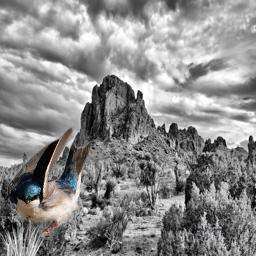Swallow: (7, 126, 92, 240)
